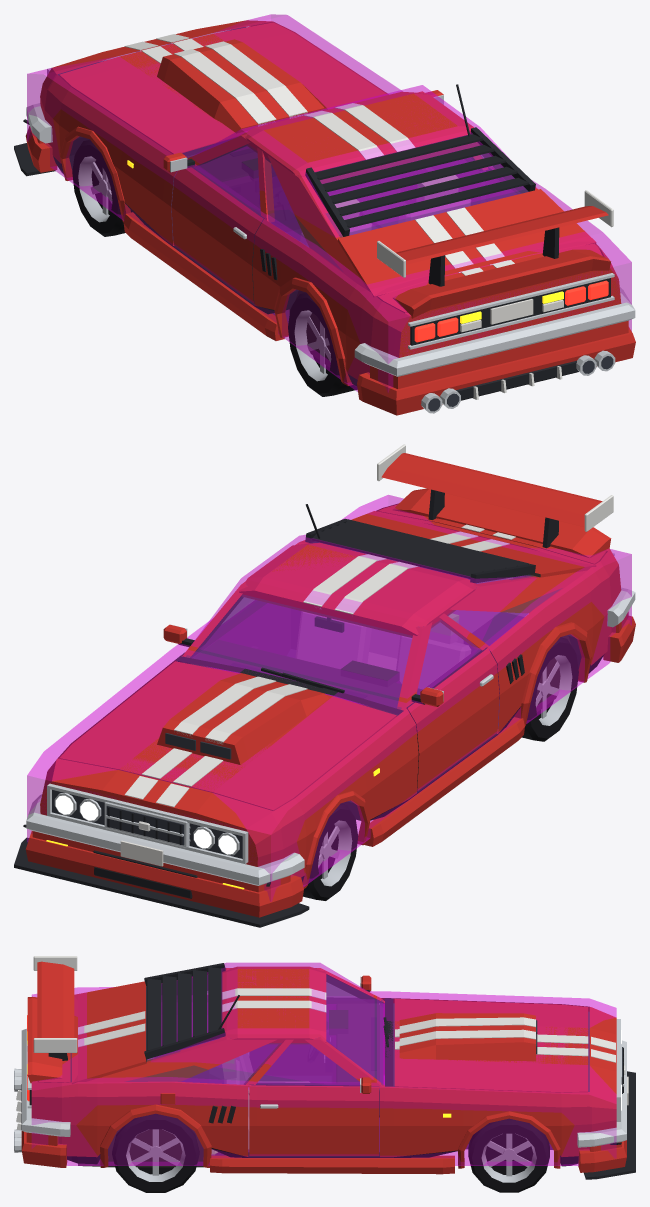
Rendered from muscle.glb.
3 renders of one model, top to bottom at view 1: azimuth 30°, elevation 25°; view 2: azimuth 150°, elevation 25°; view 3: azimuth 270°, elevation 25°, orthographic. The views are drawn at different scales.
Parts seen in each view (by area): view 1: Body, Col_Body, Col_Cabin, Hood, Mod_Roof_A, Mod_Hood_A, Door_FL, Mod_BumperR_A, Mod_Spoiler_A, Mod_Spoiler_B, Glass_Rear, Glass_L (+7 smaller); view 2: Body, Col_Body, Col_Cabin, Hood, Glass_Windshield, Mod_BumperF_A, Mod_Hood_A, Door_FL, Mod_Spoiler_B, Mod_Roof_A, Mod_Spoiler_A, Glass_L (+7 smaller); view 3: Body, Col_Body, Col_Cabin, Hood, Door_FR, Mod_Hood_A, Mod_Roof_A, Glass_R, Wheel_FR, Wheel_RR, Glass_Windshield, Mod_Skirts_A (+7 smaller).
Boxes of the visible parts, box(x1,y1,x2,y2) form: Body: box(26, 20, 635, 388); Col_Body: box(27, 14, 631, 392); Col_Cabin: box(191, 85, 536, 246); Hood: box(59, 22, 387, 154); Mod_Roof_A: box(305, 127, 535, 236); Mod_Hood_A: box(157, 39, 327, 133); Door_FL: box(163, 152, 264, 303); Mod_BumperR_A: box(357, 327, 635, 415); Mod_Spoiler_A: box(393, 249, 610, 318); Mod_Spoiler_B: box(377, 190, 613, 286); Glass_Rear: box(320, 142, 528, 237); Glass_L: box(195, 144, 341, 270); Body: box(26, 503, 635, 892); Col_Body: box(27, 495, 631, 901); Col_Cabin: box(191, 534, 536, 704); Hood: box(59, 661, 396, 810); Glass_Windshield: box(186, 595, 412, 709); Mod_BumperF_A: box(14, 824, 309, 927); Mod_Hood_A: box(157, 673, 328, 764); Door_FL: box(406, 647, 499, 791); Mod_Spoiler_B: box(377, 444, 613, 548); Mod_Roof_A: box(305, 518, 535, 583); Mod_Spoiler_A: box(393, 488, 611, 557); Glass_L: box(417, 589, 560, 694); Body: box(21, 966, 628, 1168); Col_Body: box(31, 987, 616, 1165); Col_Cabin: box(147, 962, 384, 1089); Hood: box(394, 998, 588, 1092); Door_FR: box(249, 1077, 379, 1155); Mod_Hood_A: box(399, 1013, 537, 1061); Mod_Roof_A: box(144, 963, 225, 1059); Glass_R: box(126, 1043, 359, 1084); Wheel_FR: box(468, 1118, 549, 1192); Wheel_RR: box(112, 1113, 199, 1192); Glass_Windshield: box(326, 975, 382, 1085); Mod_Skirts_A: box(210, 1155, 454, 1174).
Size of what is drawn, in the model's own units: 2.17 by 1.64 by 5.1.
